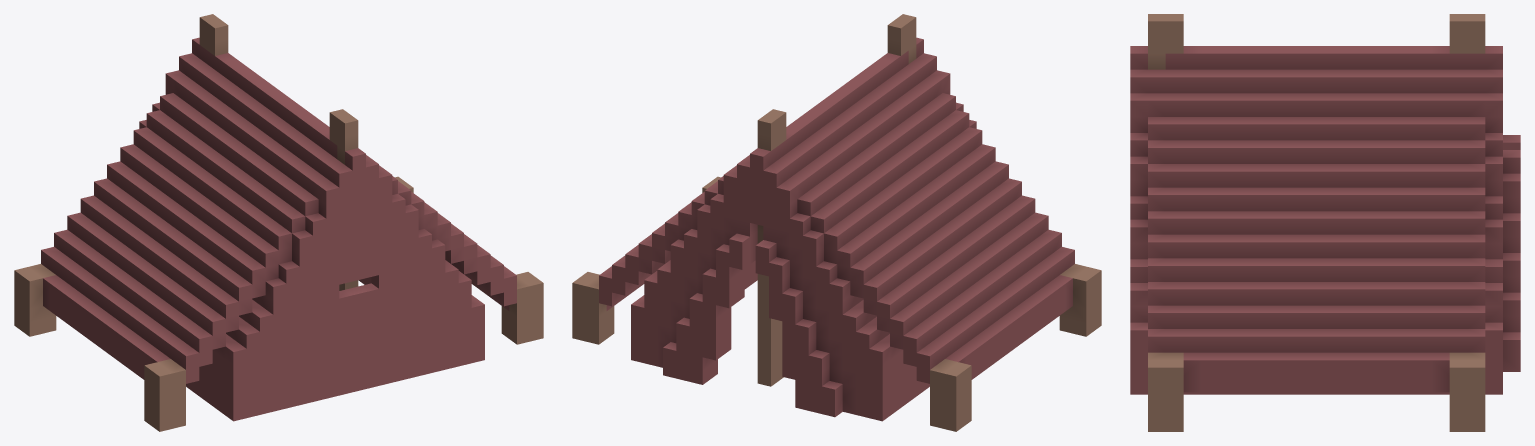
File: tent.glb
3 renders of one model, left to right at view 1: azimuth 30°, elevation 25°; view 2: azimuth 150°, elevation 25°; view 3: azimuth 270°, elevation 25°, orthographic. The views are drawn at different scales.
Parts seen in each view (by area): view 1: voxels; view 2: voxels; view 3: voxels.
Boxes of the visible parts, bbox=[...] form: voxels: bbox=[14, 14, 543, 431]; voxels: bbox=[572, 14, 1101, 431]; voxels: bbox=[1130, 14, 1520, 431].
Size of the model in its own units: 0.904 by 0.5924 by 0.6859.
